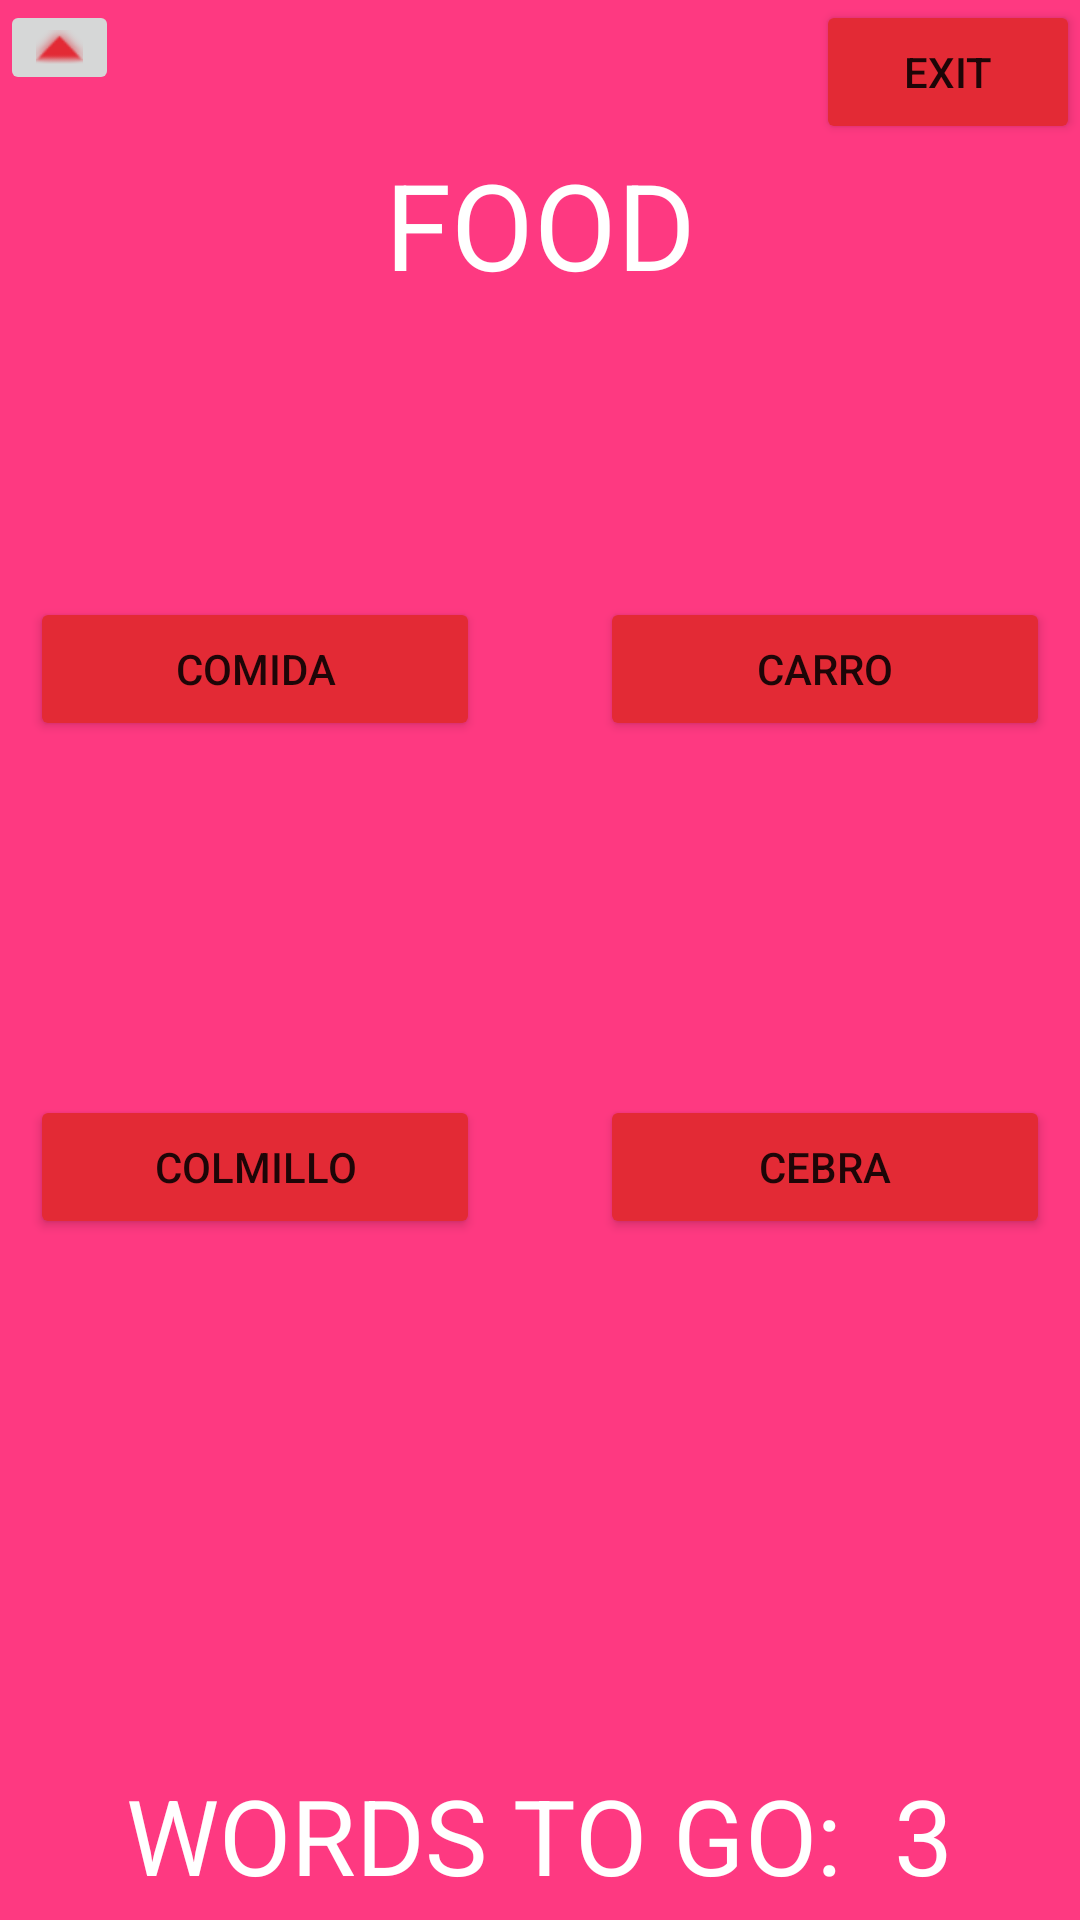

Icons on this 1080 x 1920 Android screen, each with its box as (x1, y1, x2, y2):
arrow up float: (12, 18, 107, 77)
